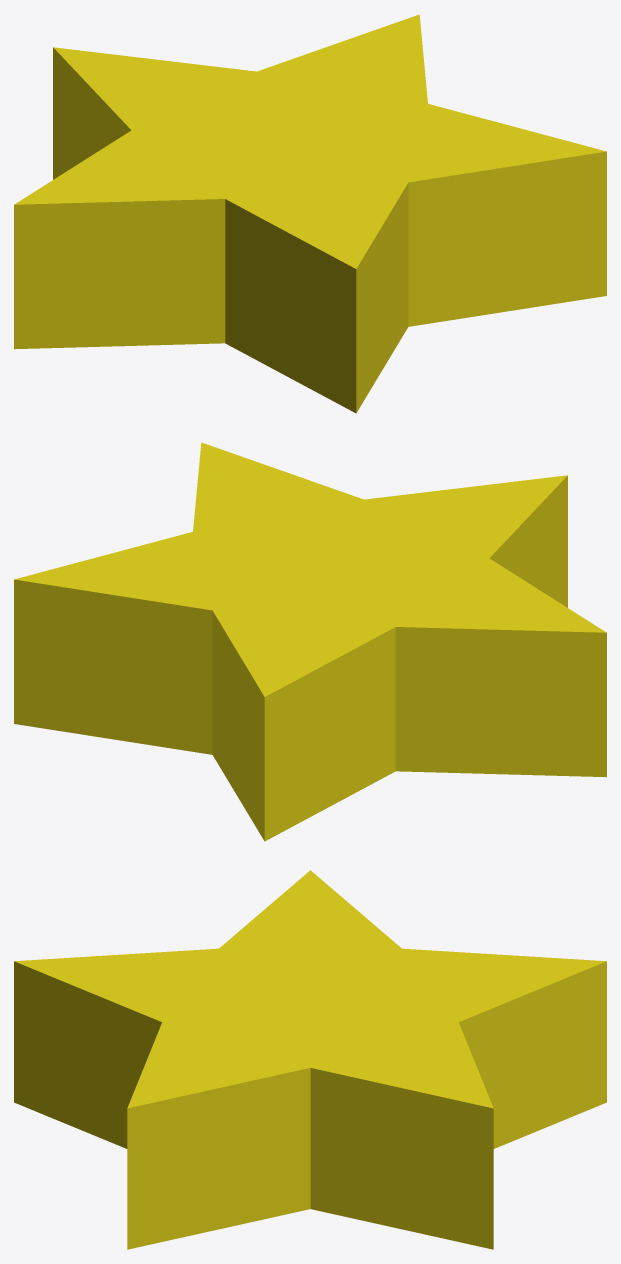
Rendered from star.gltf.
3 renders of one model, top to bottom at view 1: azimuth 30°, elevation 25°; view 2: azimuth 150°, elevation 25°; view 3: azimuth 270°, elevation 25°, orthographic. The views are drawn at different scales.
Parts seen in each view (by area): view 1: Star; view 2: Star; view 3: Star.
Boxes of the visible parts, <box> form: Star: <box>14,14,606,413</box>; Star: <box>14,442,606,841</box>; Star: <box>14,870,606,1249</box>.
Size of the model in its own units: 1.81 by 0.5 by 1.9.
